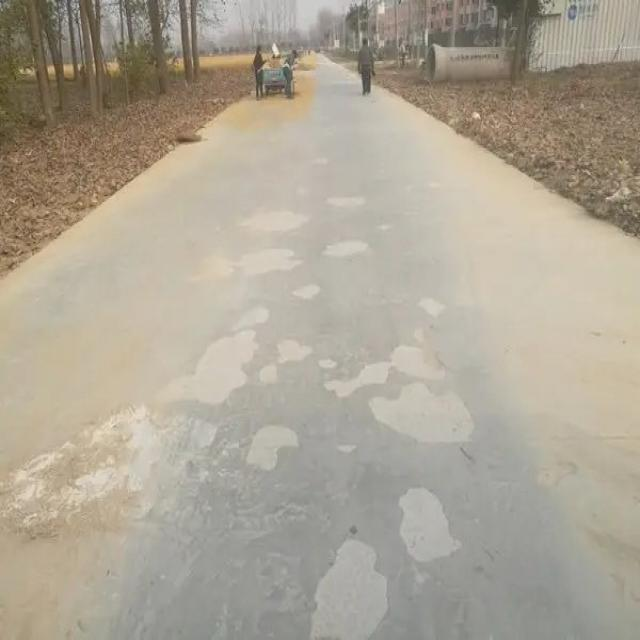Pothole: (159, 308, 274, 416), (311, 534, 394, 638), (367, 384, 482, 445), (397, 480, 464, 560), (324, 347, 431, 397), (238, 424, 302, 468), (253, 208, 312, 239), (235, 249, 306, 270), (410, 300, 450, 326), (324, 235, 369, 258), (271, 340, 314, 364), (287, 288, 323, 302), (332, 196, 365, 209), (258, 366, 279, 384), (318, 357, 336, 373)
